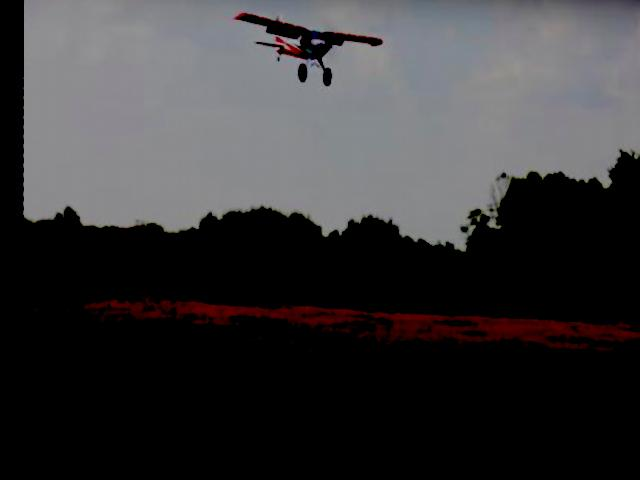uav: (220, 0, 391, 104)
